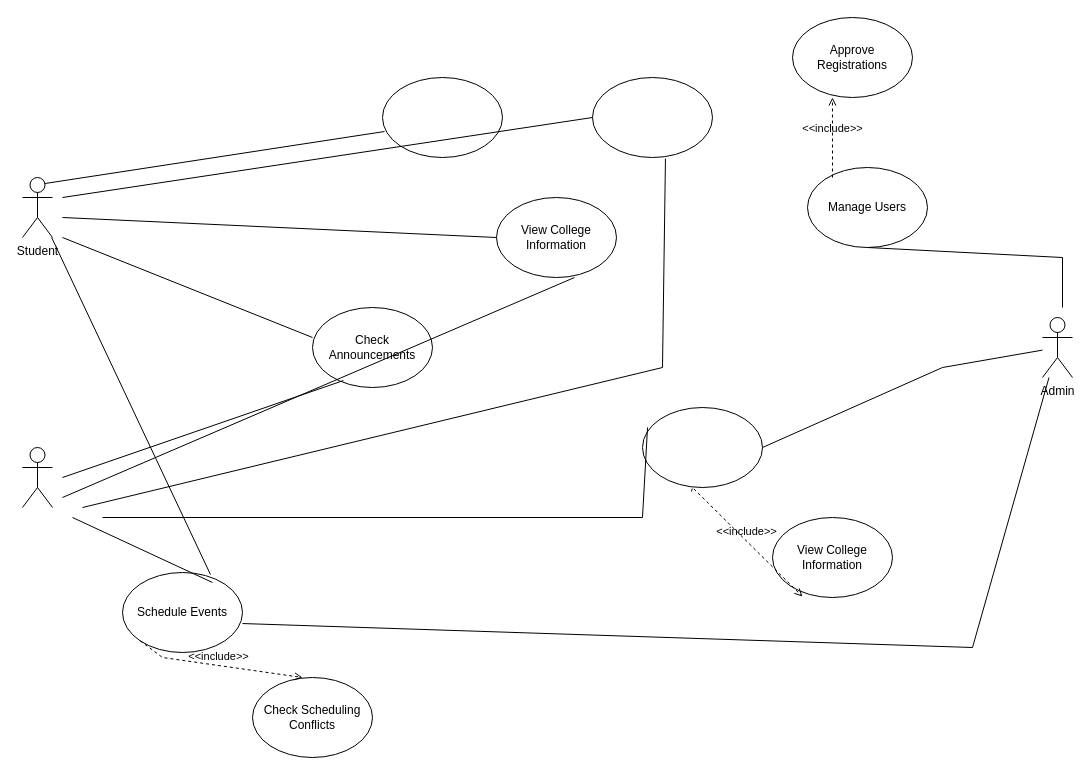
The diagram is 1092 pixels wide and 775 high, and some of its shapes have lost their labels. Here are the shapes that lost their labels. From the top down, the box of each, then its label:
(382, 76, 502, 158): Register For Event
(592, 76, 712, 158): Lecturer Information
(642, 406, 762, 488): Update College Information
(22, 446, 52, 508): Faculty
